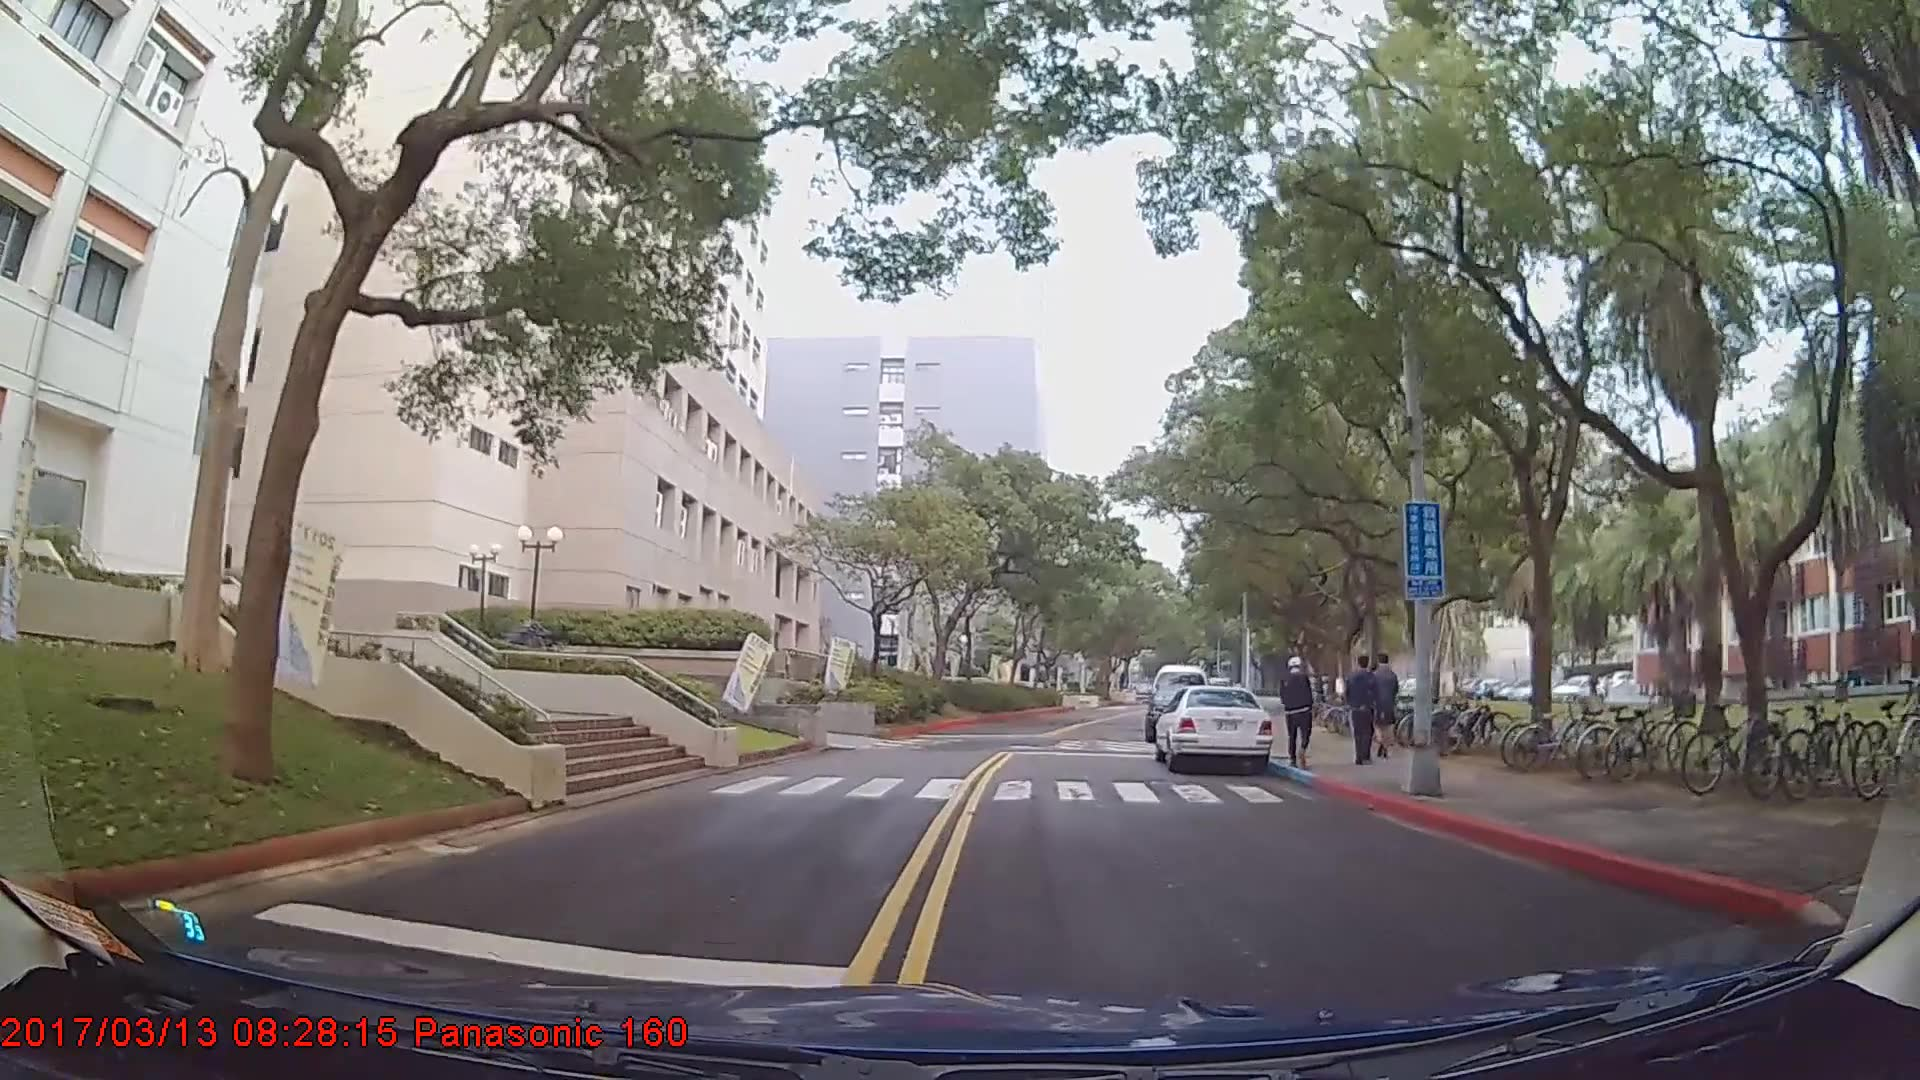pedestrian: (1348, 649, 1384, 766), (1284, 658, 1315, 768)
vehicle: (1150, 684, 1272, 773)
